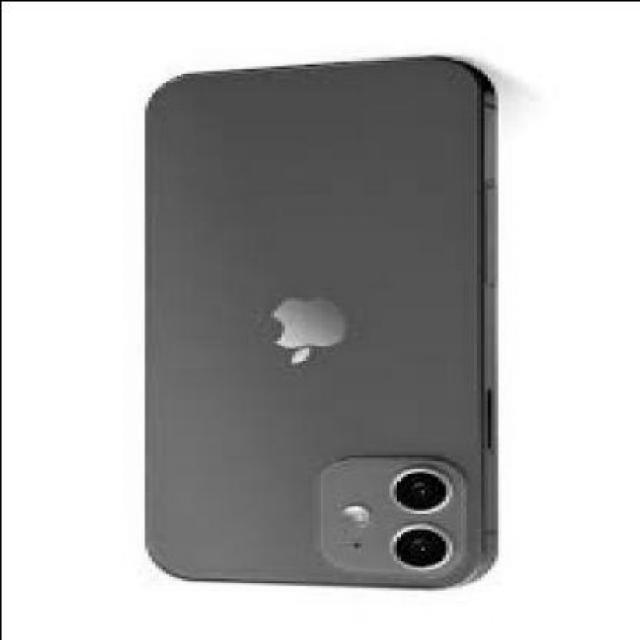fake: (140, 60, 500, 582)
